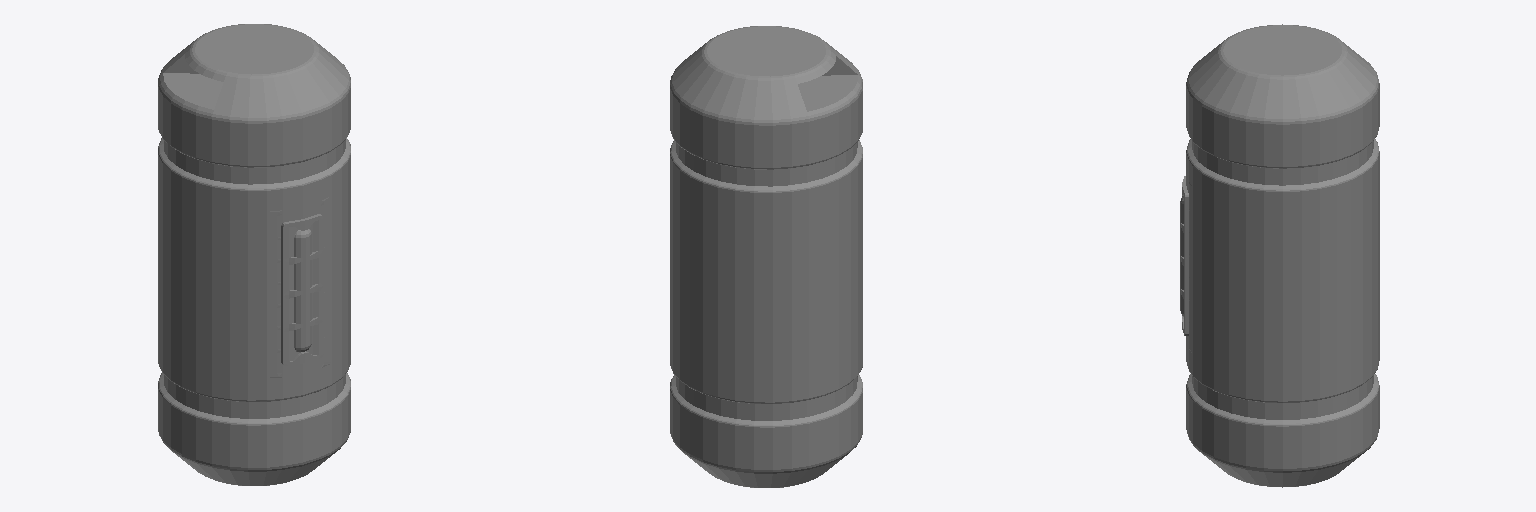
The model's file is cilindro_MI.obj.
The picture shows the model from 3 angles: view 1: azimuth 30°, elevation 25°; view 2: azimuth 150°, elevation 25°; view 3: azimuth 270°, elevation 25°; orthographic projection.
Visible parts, largest first — view 1: CANISTER_LOW, PLATE_LOW, SCREAM_O_METER_LOW; view 2: CANISTER_LOW; view 3: CANISTER_LOW, PLATE_LOW.
Part boxes in pixels (x1,y1,x2,y2): CANISTER_LOW: (158,24,350,485); PLATE_LOW: (281,214,323,365); SCREAM_O_METER_LOW: (294,229,311,352); CANISTER_LOW: (670,26,862,487); CANISTER_LOW: (1186,24,1379,487); PLATE_LOW: (1181,176,1188,335).
Bounding box in the file's own units: 8.63 × 20.21 × 8.87.